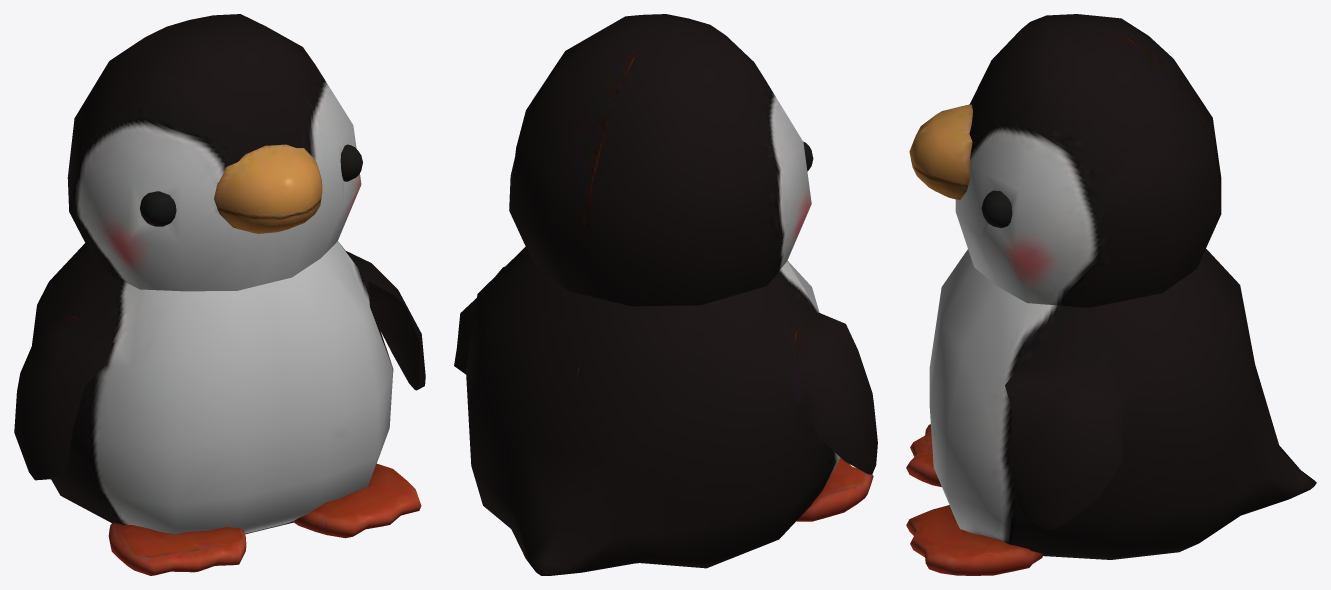
Rendered from peluche-pinguino.glb.
The picture shows the model from 3 angles, left to right: view 1: azimuth 30°, elevation 25°; view 2: azimuth 150°, elevation 25°; view 3: azimuth 270°, elevation 25°; orthographic projection. The views are drawn at different scales.
Parts seen in each view (by area): view 1: Box001; view 2: Box001; view 3: Box001.
Part boxes in pixels (bbox=[...]): Box001: bbox=[14, 14, 425, 575]; Box001: bbox=[454, 14, 877, 575]; Box001: bbox=[906, 14, 1316, 575].
Bounding box in the file's own units: 2.1 × 2.43 × 1.87.
1 material, 1 textured.
